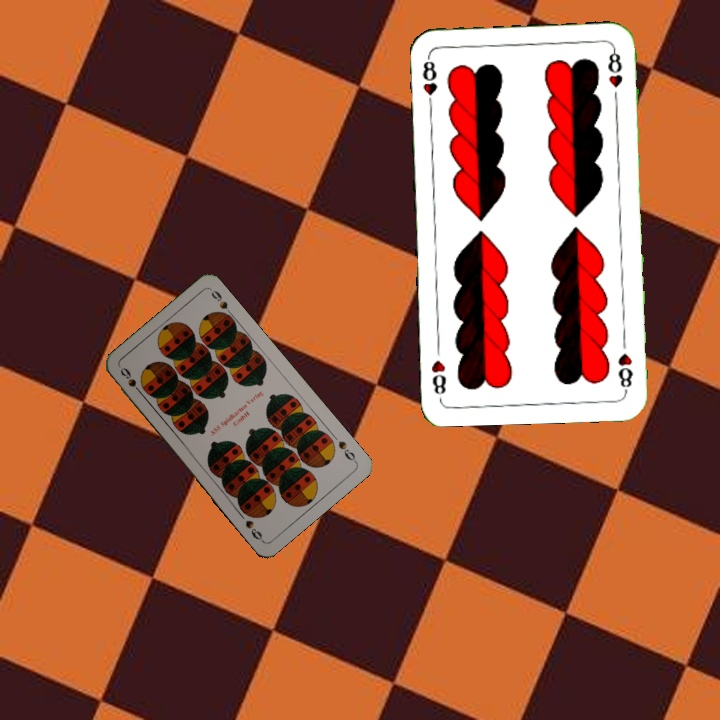H8: (418, 51, 440, 110), (614, 350, 635, 395)
S9: (116, 363, 146, 398), (334, 437, 359, 465)
